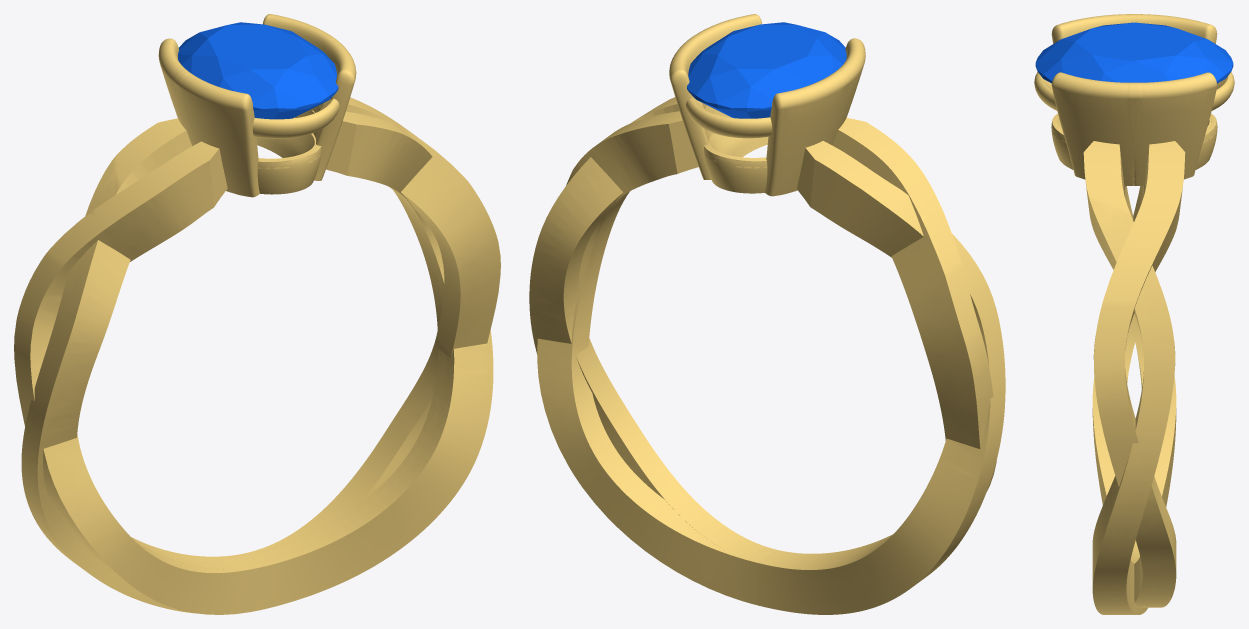
Rendered from bluesapphire-oval-yellowgold-halfmoonbezel-twist-nosidestones.glb.
3 views of the same model, side by side, from view 1: azimuth 30°, elevation 25°; view 2: azimuth 150°, elevation 25°; view 3: azimuth 270°, elevation 25° (orthographic).
Visible parts, largest first — view 1: metal.003, stone; view 2: metal.003, stone; view 3: metal.003, stone.
Part boxes in pixels (bbox=[...]): metal.003: bbox=[14, 14, 500, 614]; stone: bbox=[178, 22, 338, 119]; metal.003: bbox=[529, 14, 1005, 614]; stone: bbox=[687, 22, 846, 118]; metal.003: bbox=[1034, 14, 1234, 614]; stone: bbox=[1035, 22, 1233, 83].
Bounding box in the file's own units: 19.97 × 23.31 × 7.75.
